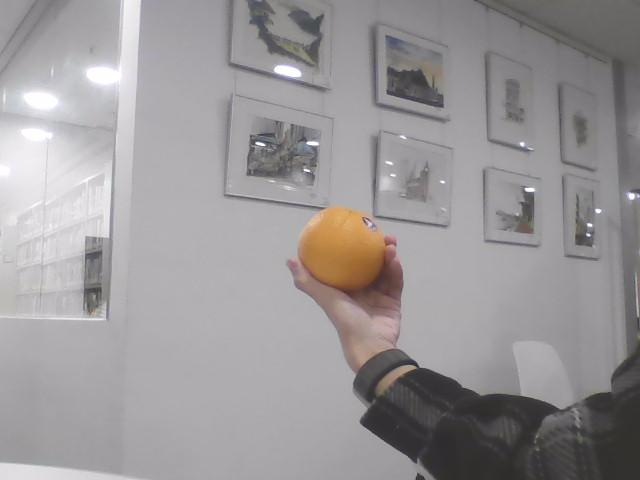orange: (296, 205, 387, 289)
